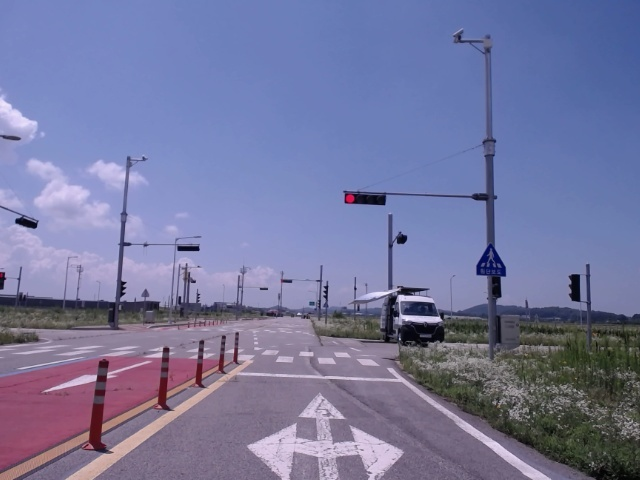red_4: (344, 192, 386, 206)
